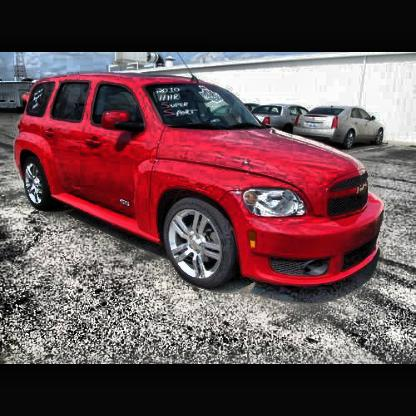Chevrolet HHR SS 2010: (19, 77, 386, 294)
